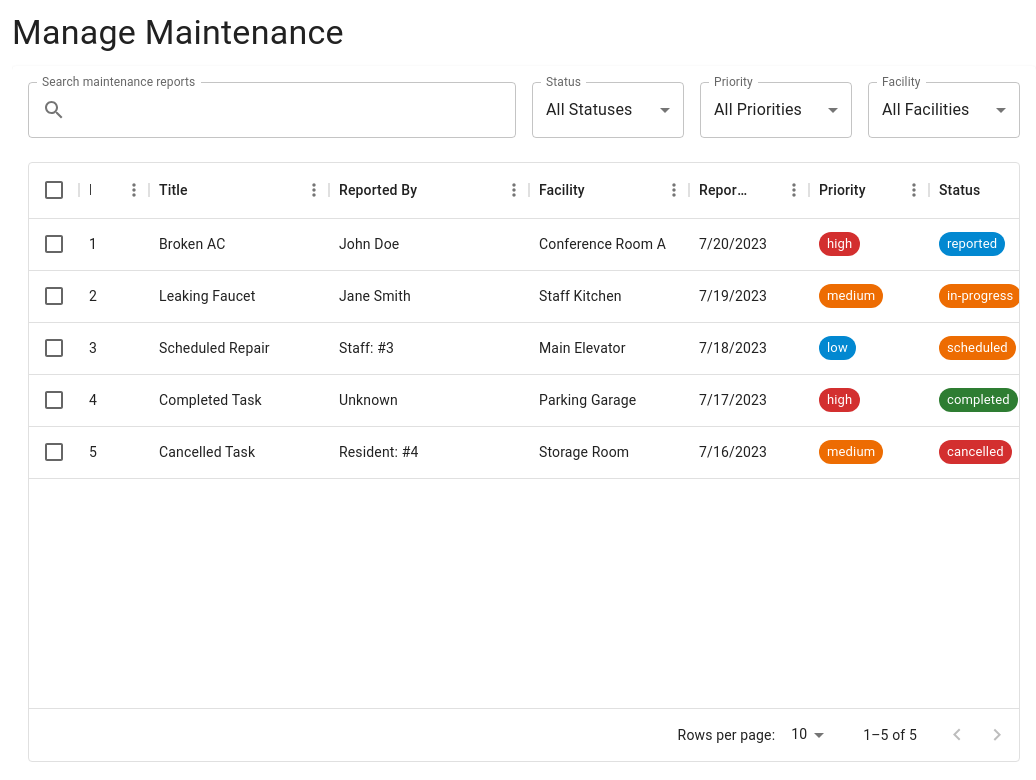
Scenario: ManageMaintenancePage › filters reports by description search term
This screenshot has width=1036, height=780.
Expected: the text "Broken AC" is shown, [159, 234, 225, 254]
Type "cooling" into the field labelled "Search maintenance reports" at (295, 110), box [74, 82, 516, 138]
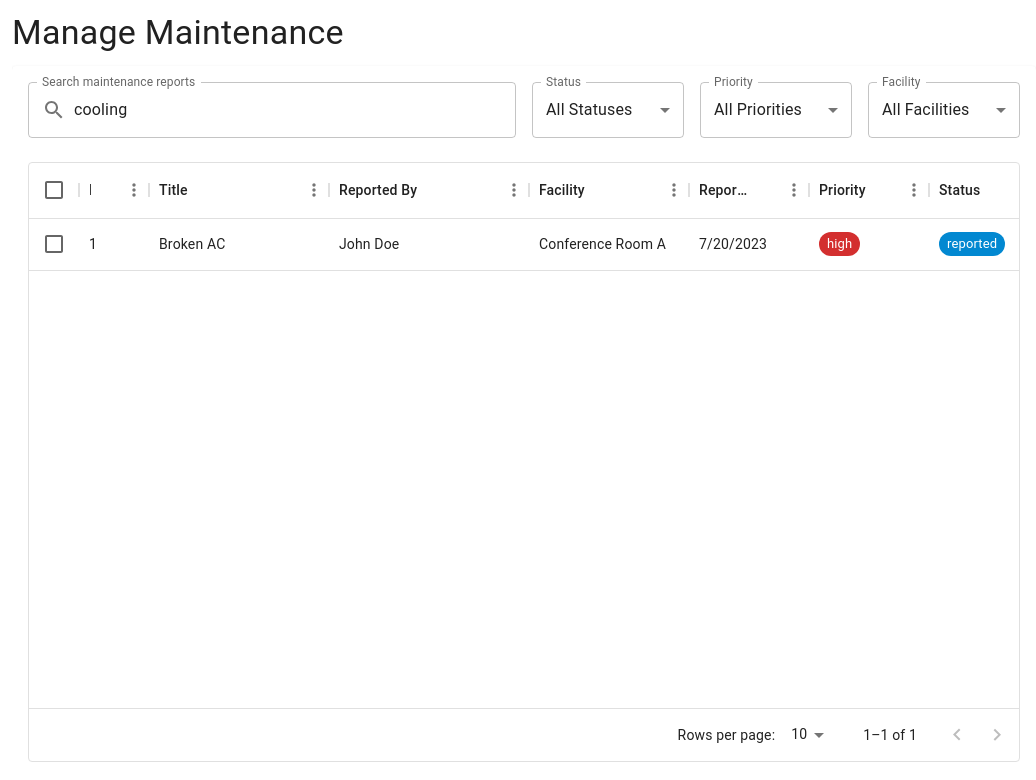
Expected: the text "Broken AC" is shown, [159, 234, 225, 254]
Expected: the text "Leaking Faucet" is gone
